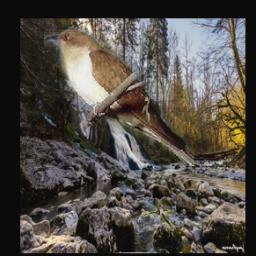Cuckoo: (43, 30, 194, 167)
Swallow: (143, 200, 174, 232)
